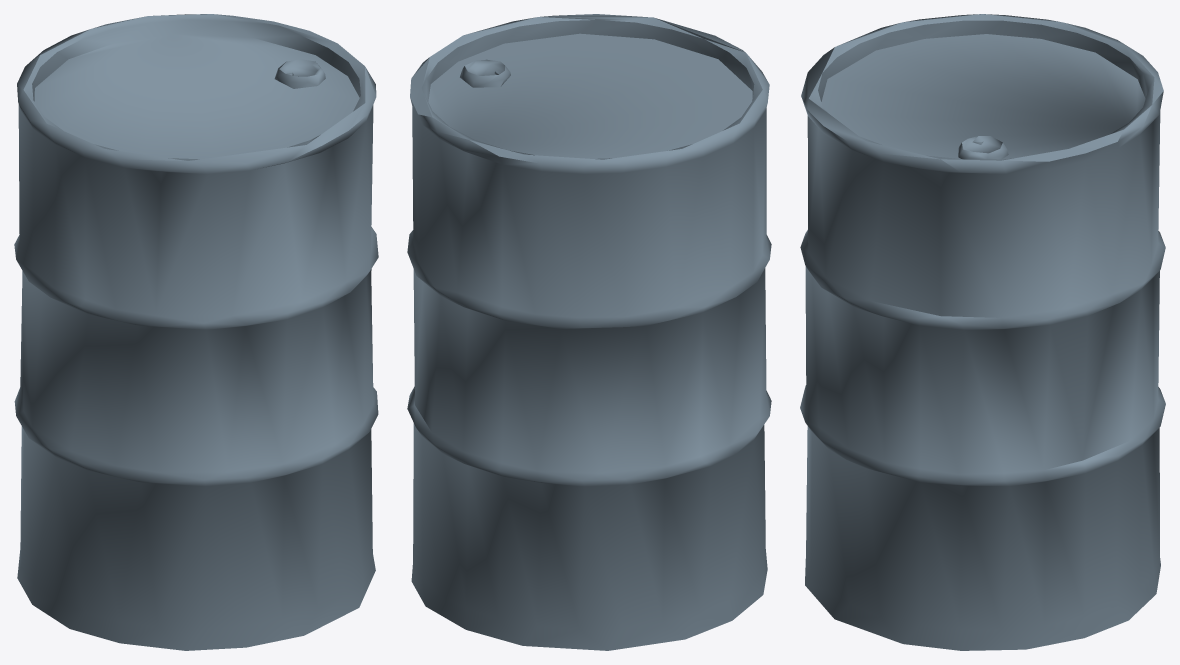
File: Dress_BarrelUpright.fbx
3 views of the same model, side by side, from view 1: azimuth 30°, elevation 25°; view 2: azimuth 150°, elevation 25°; view 3: azimuth 270°, elevation 25° (orthographic).
Parts seen in each view (by area): view 1: Dress_BarrelUpright; view 2: Dress_BarrelUpright; view 3: Dress_BarrelUpright.
Boxes of the visible parts, x1,y1,x2,y2 form: Dress_BarrelUpright: (14, 14, 378, 650); Dress_BarrelUpright: (407, 14, 771, 650); Dress_BarrelUpright: (800, 14, 1165, 650).
Bounding box in the file's own units: 60.71 × 90.15 × 61.17.
